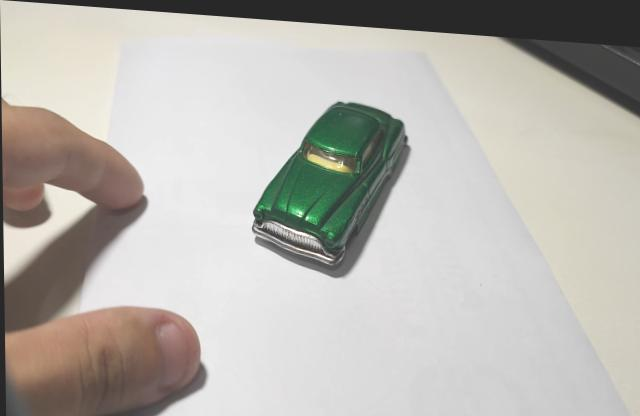06_MASERATI: (250, 97, 411, 265)
